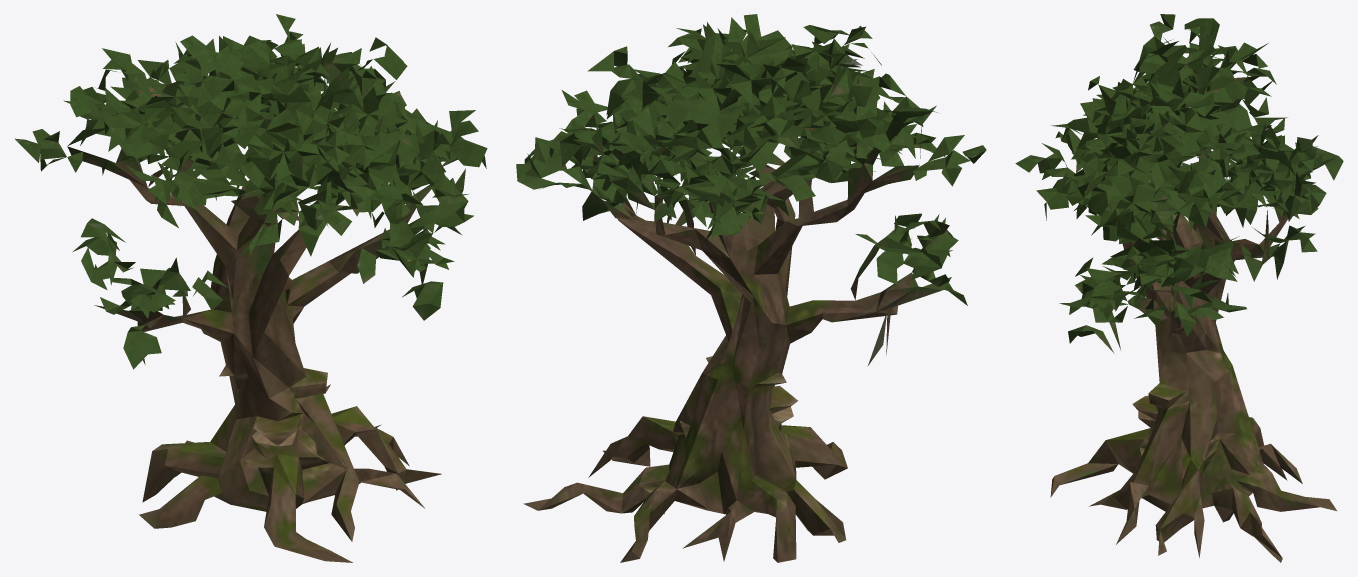
Rendered from ArvoreFloresta01.glb.
3 renders of one model, left to right at view 1: azimuth 30°, elevation 25°; view 2: azimuth 150°, elevation 25°; view 3: azimuth 270°, elevation 25°, orthographic. The views are drawn at different scales.
Parts seen in each view (by area): view 1: output_unwrapped; view 2: output_unwrapped; view 3: output_unwrapped.
Part boxes in pixels (x1,y1,x2,y2): output_unwrapped: (15, 14, 487, 562); output_unwrapped: (516, 14, 986, 562); output_unwrapped: (1015, 14, 1343, 562).
Size of the model in its own units: 1.76 by 1.82 by 1.23.
Materials: 1 (1 with a texture image).
